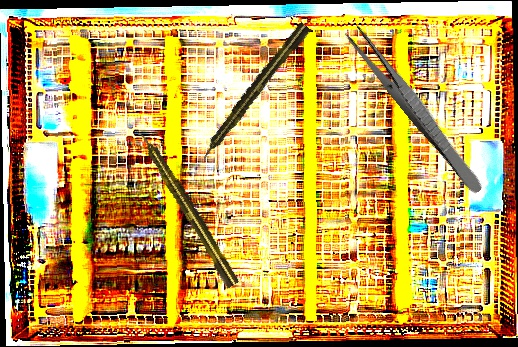Dressing Forceps: (342, 22, 489, 197)
Handpiece: (134, 127, 241, 290), (195, 20, 313, 165)
